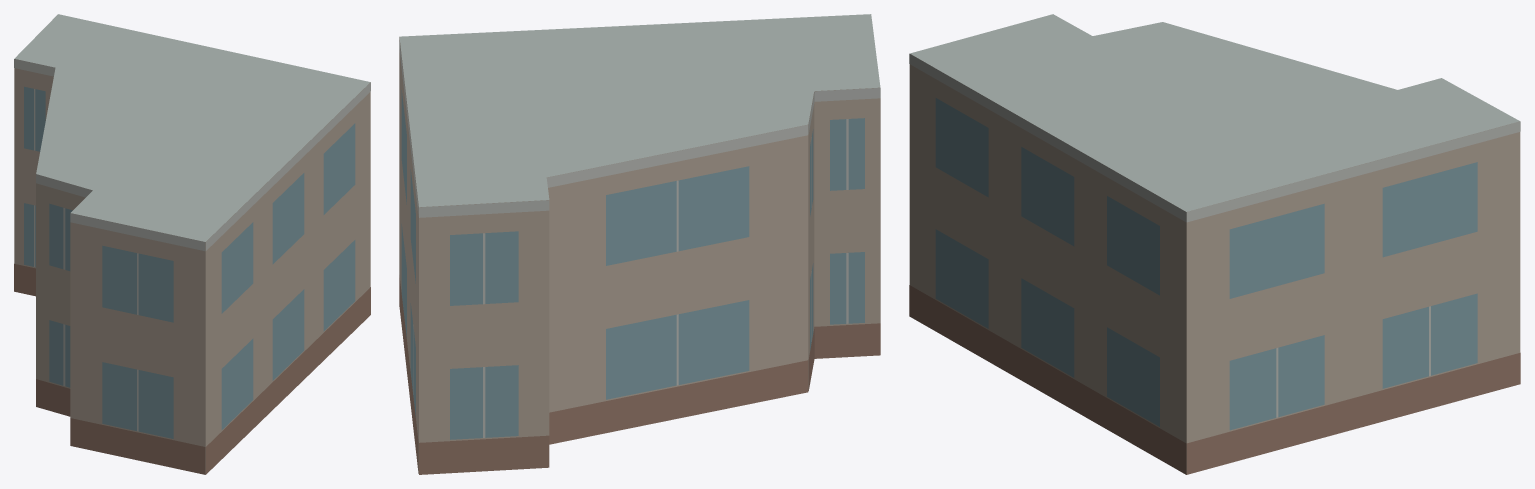
File: survey-upis-32925064.glb
The picture shows the model from 3 angles, left to right: view 1: azimuth 30°, elevation 25°; view 2: azimuth 150°, elevation 25°; view 3: azimuth 270°, elevation 25°; orthographic projection. The views are drawn at different scales.
Visible parts, largest first — view 1: survey-upis-32925064.tmp; view 2: survey-upis-32925064.tmp; view 3: survey-upis-32925064.tmp.
Boxes of the visible parts, bbox=[...] form: survey-upis-32925064.tmp: bbox=[14, 14, 370, 474]; survey-upis-32925064.tmp: bbox=[399, 14, 880, 474]; survey-upis-32925064.tmp: bbox=[909, 14, 1520, 474].
Bounding box in the file's own units: 9.86 × 6.1 × 12.86.
